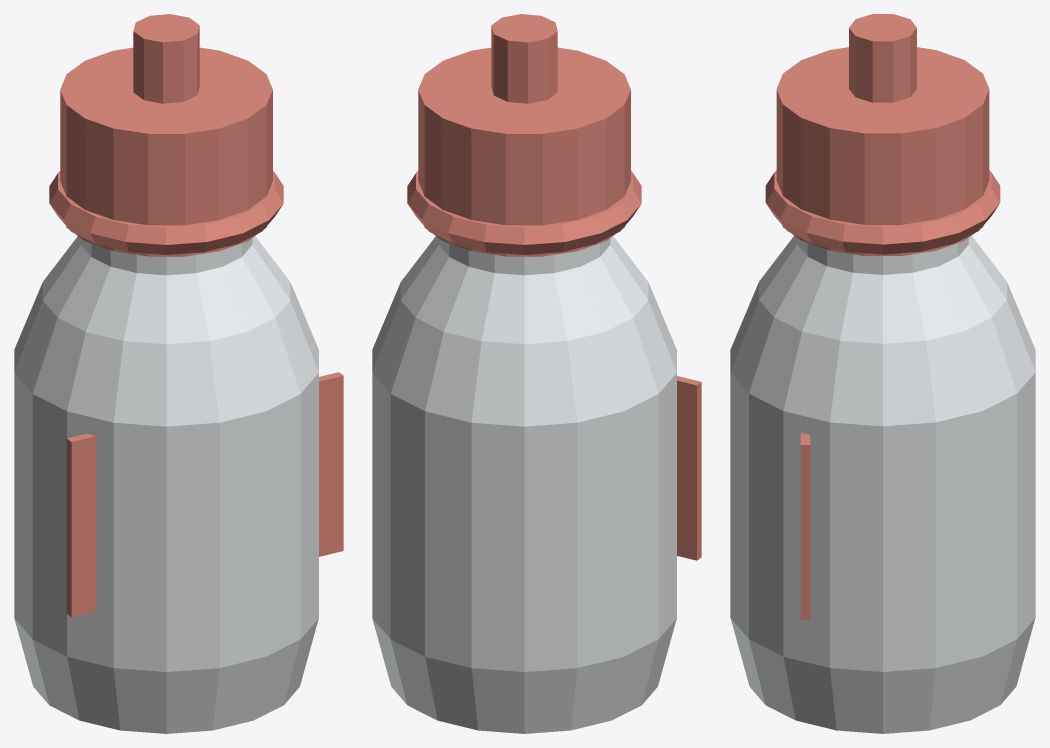
The model's file is item_52_eye_drops.glb.
3 views of the same model, side by side, from view 1: azimuth 30°, elevation 25°; view 2: azimuth 150°, elevation 25°; view 3: azimuth 270°, elevation 25° (orthographic).
Parts seen in each view (by area): view 1: I52_Bottle, I52_Cap, I52_Label, I52_Grip, I52_Tip; view 2: I52_Bottle, I52_Cap, I52_Grip, I52_Tip, I52_Label; view 3: I52_Bottle, I52_Cap, I52_Grip, I52_Tip, I52_Label.
Boxes of the visible parts, x1,y1,x2,y2 form: I52_Bottle: (14, 236, 318, 733); I52_Cap: (60, 47, 272, 256); I52_Label: (66, 372, 343, 617); I52_Grip: (49, 171, 283, 254); I52_Tip: (133, 14, 199, 103); I52_Bottle: (372, 236, 676, 733); I52_Cap: (418, 47, 630, 256); I52_Grip: (407, 171, 641, 254); I52_Tip: (491, 14, 557, 103); I52_Label: (677, 376, 701, 560); I52_Bottle: (730, 235, 1035, 733); I52_Cap: (776, 47, 989, 255); I52_Grip: (765, 170, 1000, 254); I52_Tip: (849, 14, 916, 102); I52_Label: (800, 433, 810, 620).
Bounding box in the file's own units: 0.0325 × 0.076 × 0.0315.
